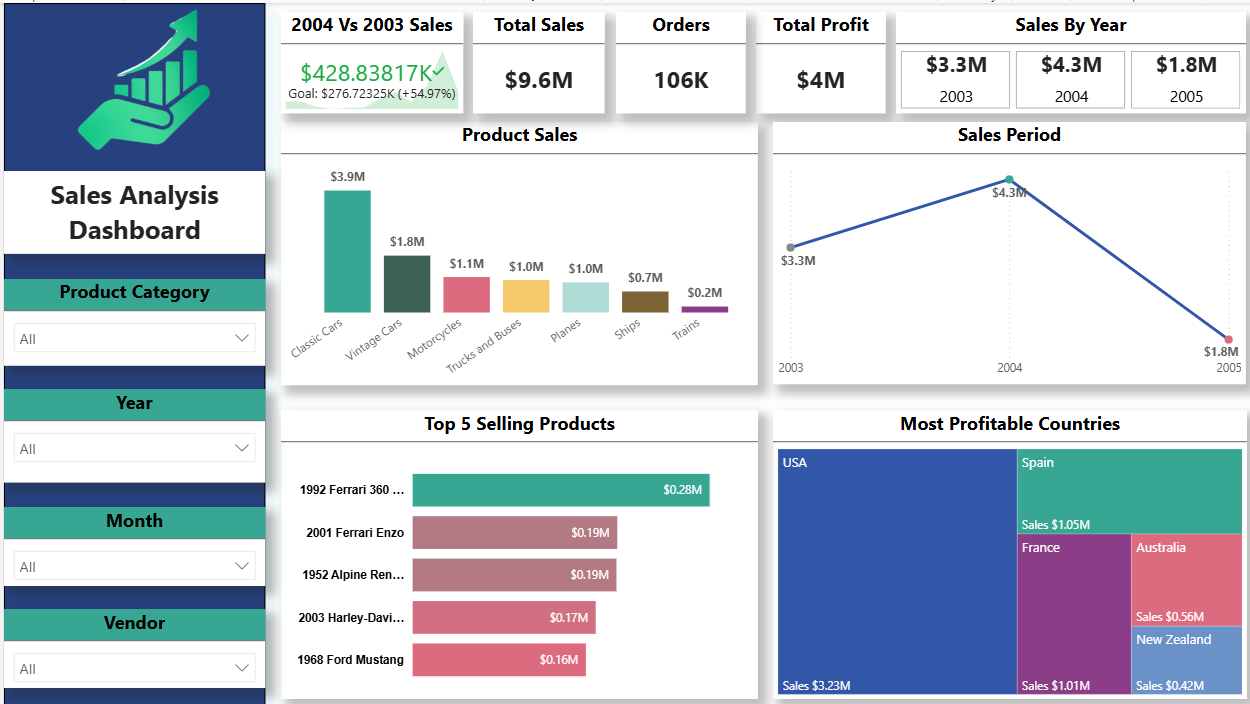

What the dashboard file says about the page in this screenshot:
{"tool":"powerbi","page":{"name":"Page 1","canvas":[1280,720],"ordinal":0},"visuals":[{"type":"textbox","title":"Sales & Product Analysis","box":[0,0,267.5,1150],"z":0},{"type":"columnChart","title":"Product Sales","fields":{"Category":["product_lines.productLine"],"Y":["Sum(order detailsl.sales)"]},"box":[284,121.6,489.2,270.4],"z":1000},{"type":"slicer","title":"Month","fields":{"Values":["order.Order_Month"]},"box":[0,516.6,267.7,81],"z":2000},{"type":"slicer","title":"Year","fields":{"Values":["order.order_year"]},"box":[0,396.2,267.7,96.4],"z":3000},{"type":"kpi","title":"2004 Vs 2003 Sales","fields":{"Goal":["order.sales_2003"],"TrendLine":["order.Order_Month"],"Indicator":["order.sales_2004"]},"box":[284.1,9.2,186.7,103.6],"z":4000},{"type":"card","title":"Total Profit","fields":{"Values":["Sum(oder_detail.profit)"]},"box":[771,9.2,133.3,103.6],"z":5000},{"type":"slicer","title":"Product Category","fields":{"Values":["products.productLine"]},"box":[0,283.1,267.7,89.2],"z":6000},{"type":"card","title":"Total Sales","fields":{"Values":["oder_detail.total_sales"]},"box":[481.3,9.2,135.4,103.6],"z":7000},{"type":"clusteredBarChart","title":"Top 5 Selling Products","fields":{"Category":["products.productName"],"Y":["Sum(oder_detail.sales)"]},"box":[284.1,417.4,489.2,295.4],"z":8000},{"type":"cardVisual","title":"Sales By Year","fields":{"Data":["order.sales_2003","order.sales_2004","order.sales_2005"]},"box":[914.9,9.2,359,103.6],"z":9000},{"type":"lineChart","title":"Sales Period","fields":{"Y":["Sum(oder_detail.sales)"],"Category":["order.orderDate.Variation.Date Hierarchy.Year","order.orderDate.Variation.Date Hierarchy.Quarter","order.orderDate.Variation.Date Hierarchy.Month","order.orderDate.Variation.Date Hierarchy.Day"]},"box":[788.8,121.6,485.3,269.4],"z":10000},{"type":"treemap","title":"Most Profitable Countries","fields":{"Group":["customers.country"],"Values":["Sum(oder_detail.sales)","CountNonNull(customers.country_city)"]},"box":[788.8,417.3,486.3,295.7],"z":11000},{"type":"slicer","title":"Vendor","fields":{"Values":["products.productVendor"]},"box":[0,621.5,267.7,81],"z":12000},{"type":"textbox","box":[0,172,268,85],"z":13000},{"type":"image","box":[59,0,172,172],"z":14000},{"type":"card","title":"Orders","fields":{"Values":["Sum(order detailsl.quantityOrdered)"]},"box":[627.2,9.2,133.3,103.6],"z":15000}]}

Visuals, with their boxes in screenshot pixels (x1, y1, x2, y2), scaled from the page's 1280x720 canvas onto the 1250x704 screenshot:
"Sales & Product Analysis" textbox: 0 0 261 703
"Product Sales" columnChart: 277 119 755 383
"Month" slicer: 0 505 261 584
"Year" slicer: 0 387 261 482
"2004 Vs 2003 Sales" kpi: 277 9 460 110
"Total Profit" card: 753 9 883 110
"Product Category" slicer: 0 277 261 364
"Total Sales" card: 470 9 602 110
"Top 5 Selling Products" clusteredBarChart: 277 408 755 697
"Sales By Year" cardVisual: 893 9 1244 110
"Sales Period" lineChart: 770 119 1244 382
"Most Profitable Countries" treemap: 770 408 1245 697
"Vendor" slicer: 0 608 261 687
textbox: 0 168 262 251
image: 58 0 226 168
"Orders" card: 612 9 743 110
